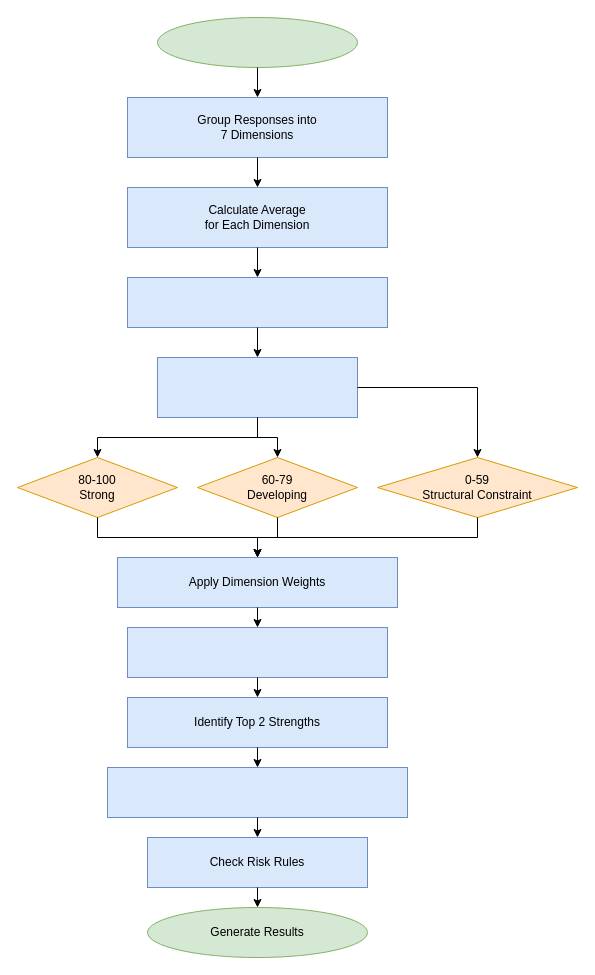
This 595x975 diagram has some shape labels left out. Each missing label, with the centre of its shape:
"((Average - 1) / 4) x 100" goes at point 257,302.
"35 RESPONSES" goes at point 257,42.
"Calculate Overall Score" goes at point 257,652.
"Dimension Score 0-100" goes at point 257,387.
"Identify Lowest 2-3 Constraints" goes at point 257,792.
